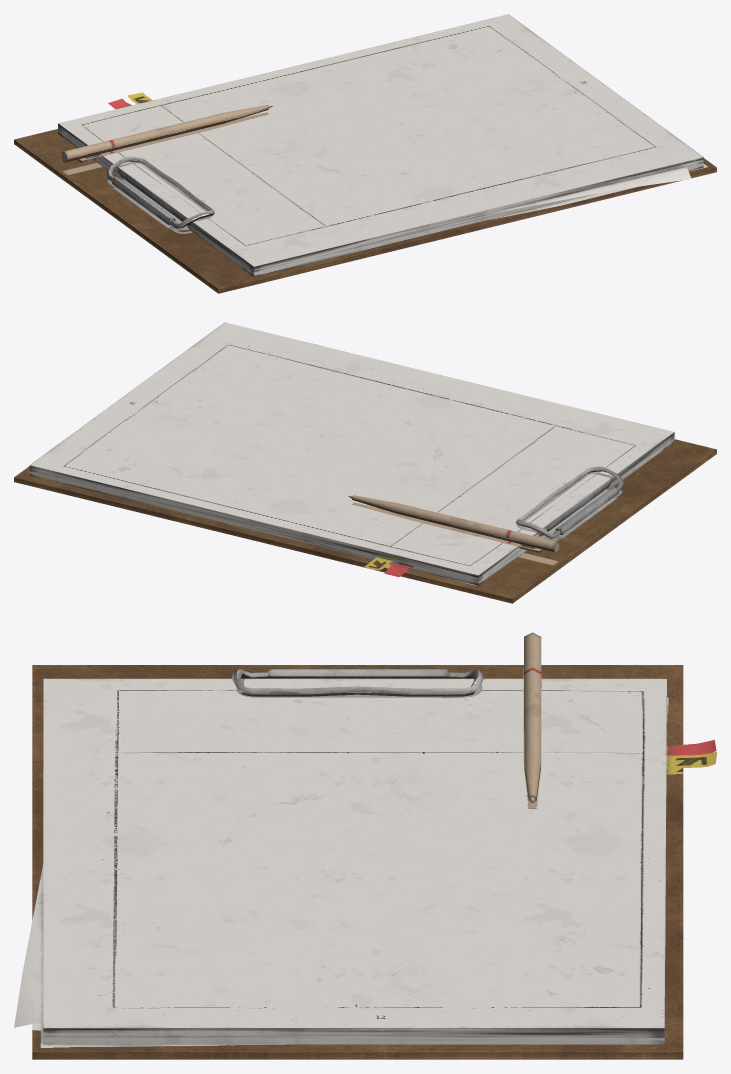
Rendered from document_clipboard_with_pen_-_game_ready.glb.
3 renders of one model, top to bottom at view 1: azimuth 30°, elevation 25°; view 2: azimuth 150°, elevation 25°; view 3: azimuth 270°, elevation 25°, orthographic. The views are drawn at different scales.
Visible parts, largest first — view 1: Tablet; view 2: Tablet; view 3: Tablet.
Part boxes in pixels (x1=…): Tablet: x1=14, y1=14, x2=716, y2=293; Tablet: x1=14, y1=322, x2=716, y2=603; Tablet: x1=14, y1=632, x2=716, y2=1059.
Bounding box in the file's own units: 0.6187 × 0.0316 × 0.4747.
Materials: 1 (1 with a texture image).
